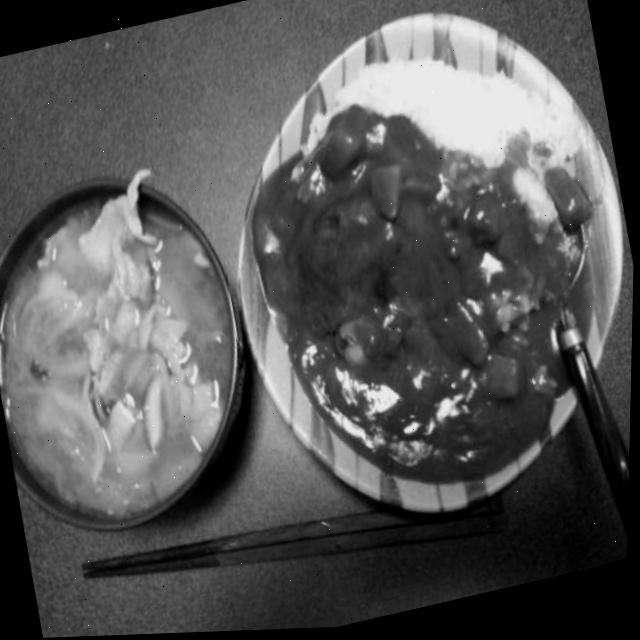牛肉菜式: (186, 0, 640, 543)
